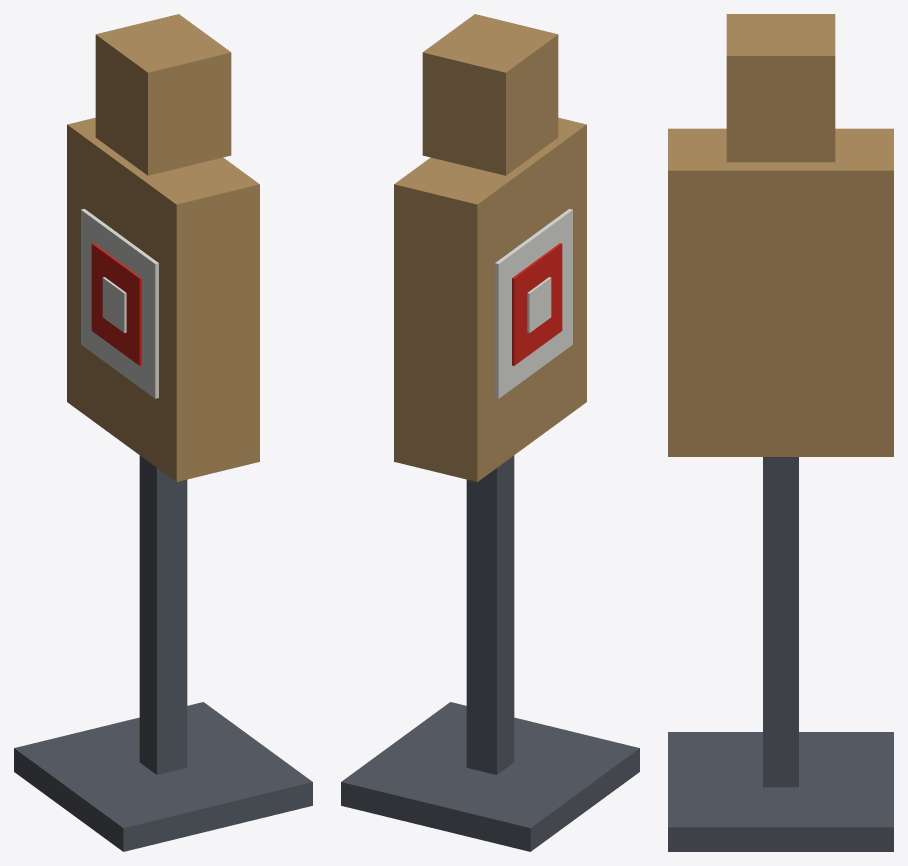
File: dummy.obj
3 views of the same model, side by side, from view 1: azimuth 30°, elevation 25°; view 2: azimuth 150°, elevation 25°; view 3: azimuth 270°, elevation 25° (orthographic). The views are drawn at different scales.
Bounding box in the file's own units: 0.5 × 1.88 × 0.5.
